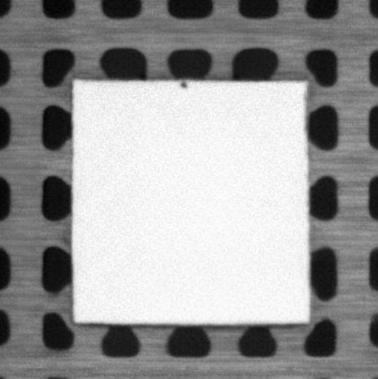DIE_INK: (179, 79, 190, 90)
